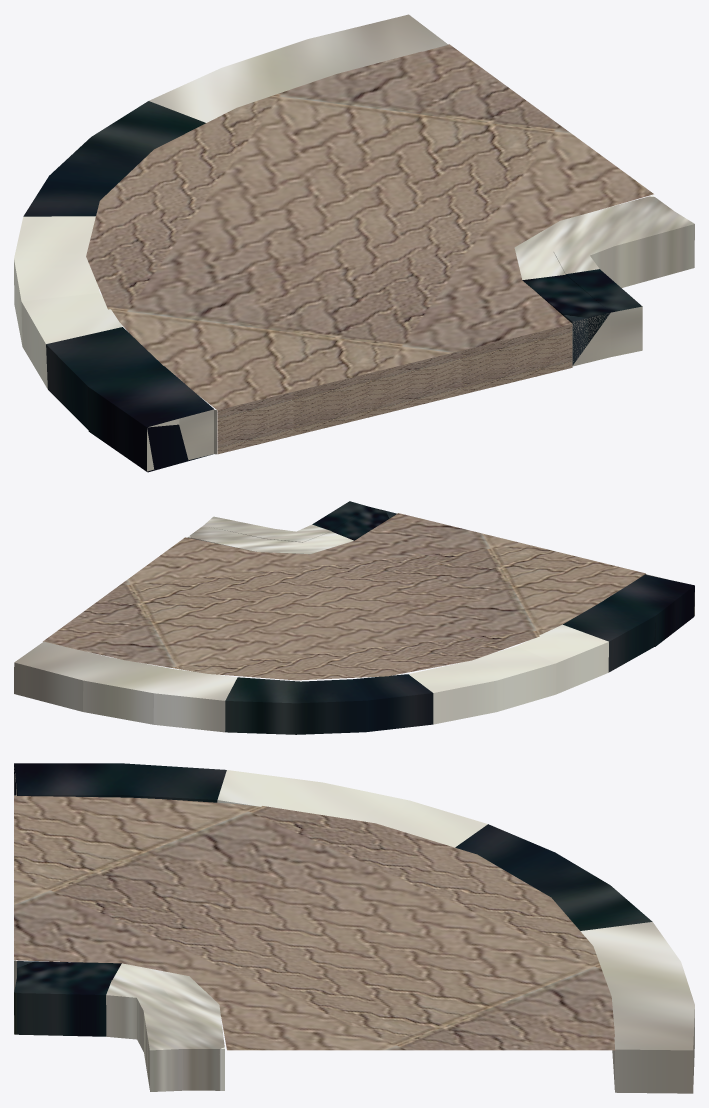
File: Road curb Curve.fbx
The picture shows the model from 3 angles, top to bottom: view 1: azimuth 30°, elevation 25°; view 2: azimuth 150°, elevation 25°; view 3: azimuth 270°, elevation 25°; orthographic projection. The views are drawn at different scales.
Parts seen in each view (by area): view 1: Cube.004; view 2: Cube.004; view 3: Cube.004.
Boxes of the visible parts, x1,y1,x2,y2 form: Cube.004: [14, 14, 694, 472]; Cube.004: [14, 501, 694, 734]; Cube.004: [14, 763, 694, 1093].
Size of the model in its own units: 501 by 38.74 by 501.
3 materials, 3 textured.
